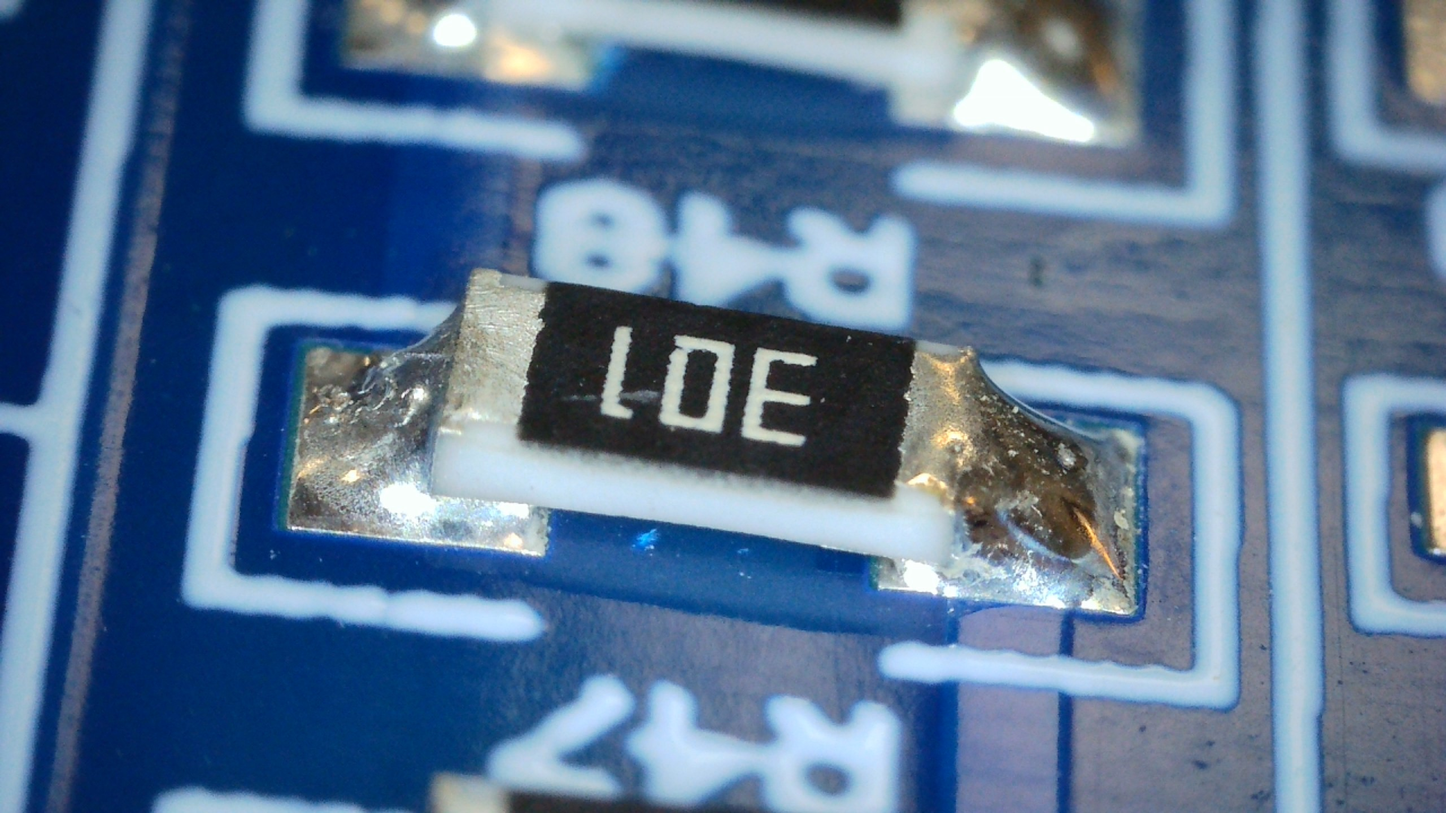NG: (316, 269, 546, 461)
OK: (892, 340, 1136, 609)
